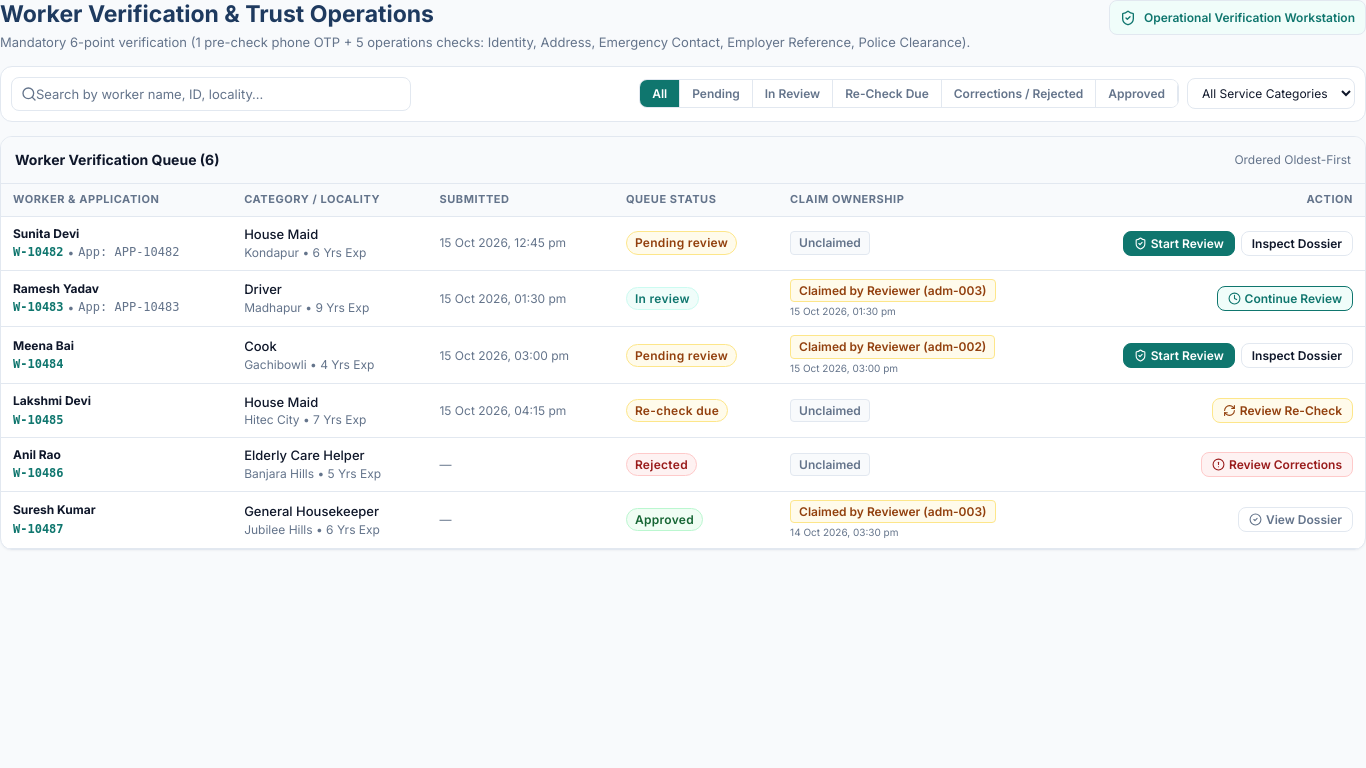
Worker Application & Verification Complete Workflow › 4. Document Link Handling & Error Resilience › handles document link fetch failures gracefully with retry action
Click the 1st button "Inspect Dossier": x=1297, y=243 [1241,231,1353,256]
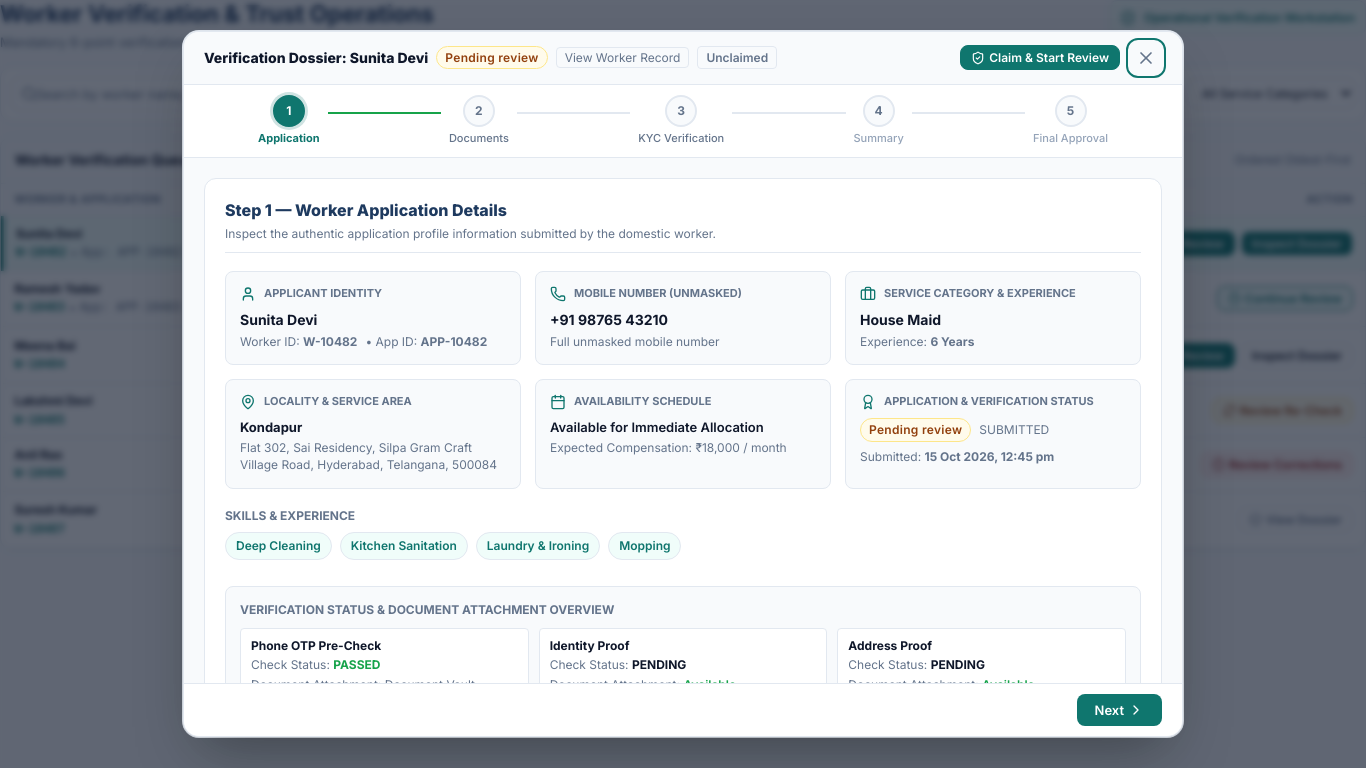
Move to Step 2: Documents Review
Click the button "Next": x=1119, y=710 [1076,694,1162,726]
(page scrolled)
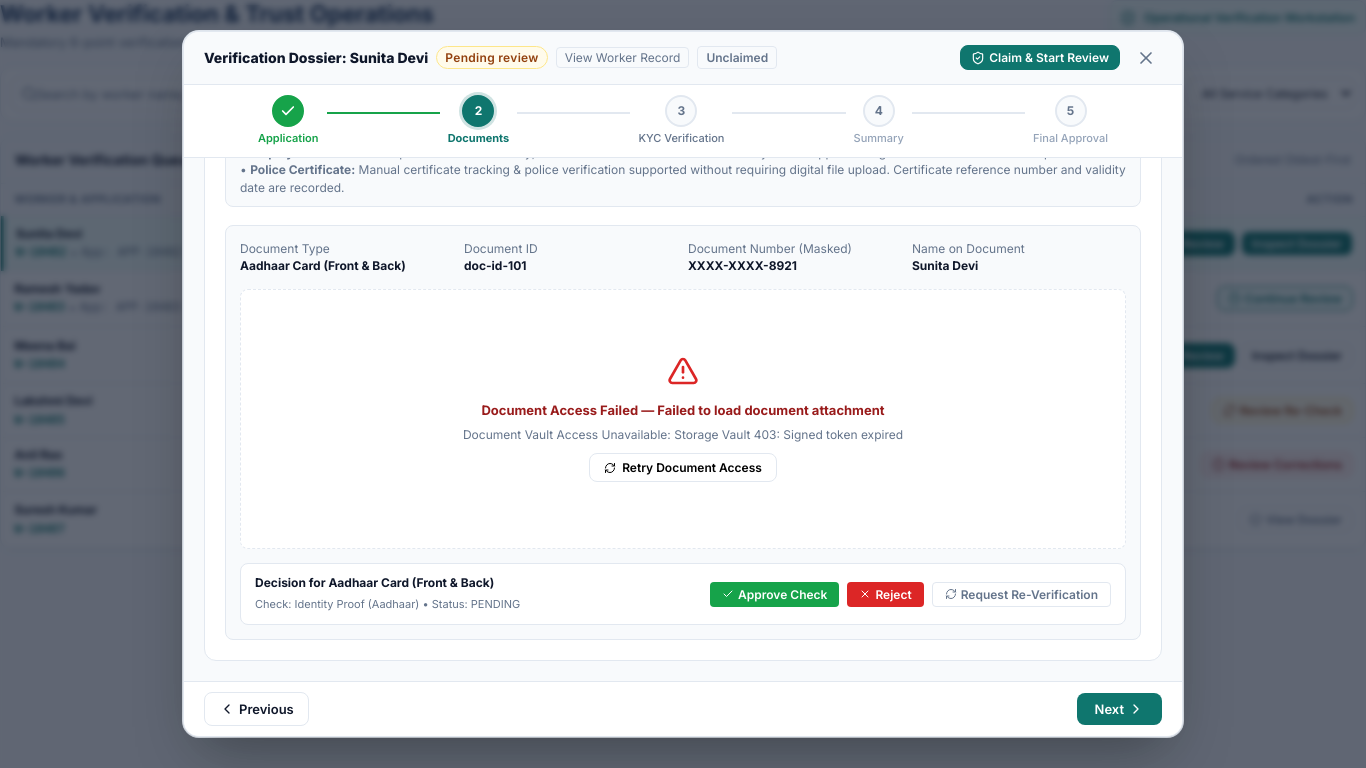
Now the heading "Document Access Failed — Failed to load document attachment" is shown, box [463,401,903,420]
Now the text "Storage Vault 403: Signed token expired" is shown, box [463,427,903,442]
Now the button with aria-label "Retry Fetching Document" is shown, box [589,454,777,482]
